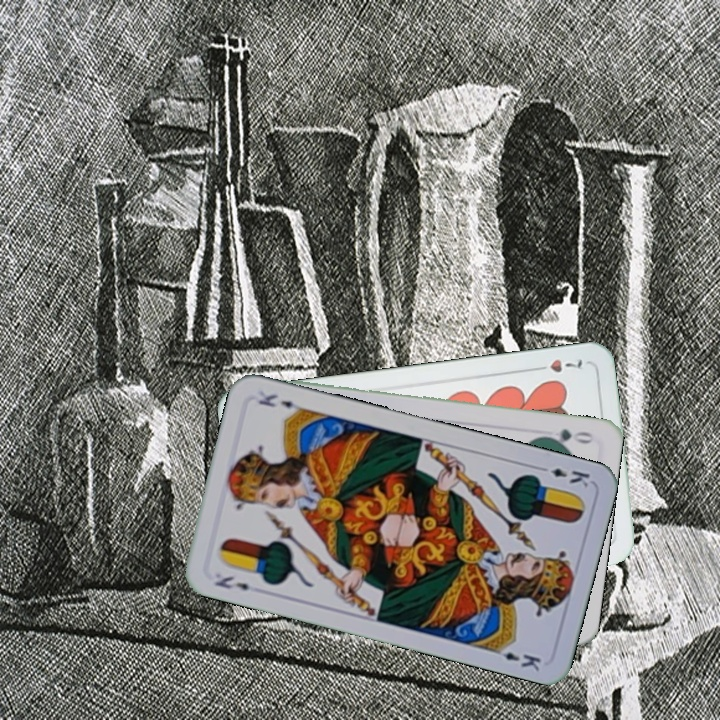EK: (534, 462, 593, 490), (210, 572, 252, 593)
GO: (537, 424, 596, 448)
H7: (529, 354, 585, 375)
